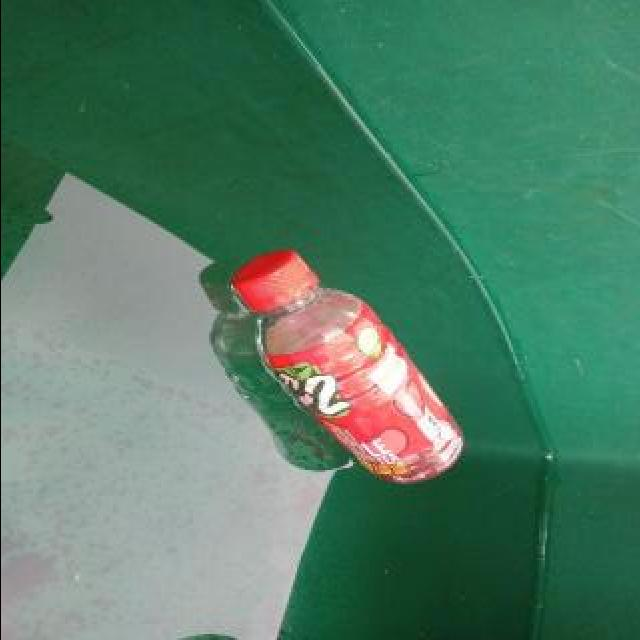Bottle: (220, 240, 472, 490)
